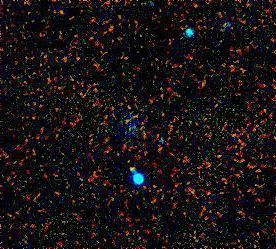star: (118, 151, 148, 181)
